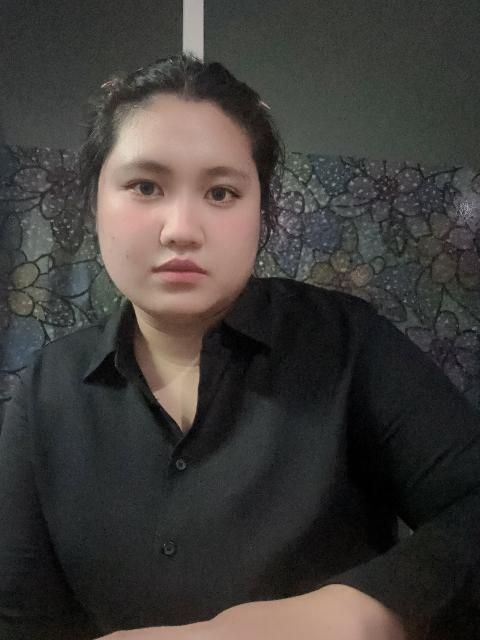fokus: (92, 70, 263, 319)
